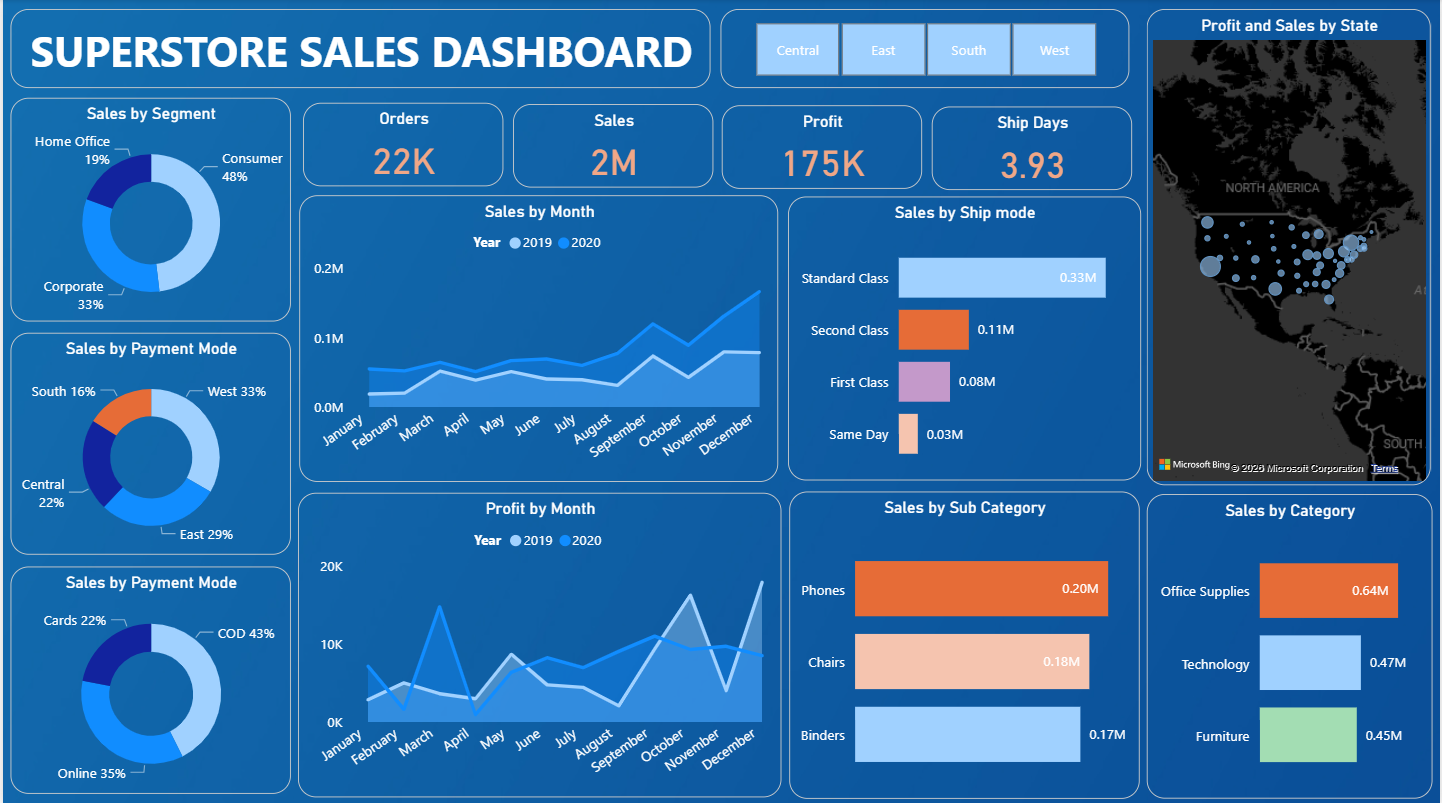

Layout of this report page (visuals, bound fields, positions):
{"tool":"powerbi","page":{"name":"Superstore Sales","canvas":[1280,720],"ordinal":0},"visuals":[{"type":"clusteredBarChart","title":"Sales by Category","fields":{"Category":["Sheet1.Category"],"Y":["Sum(Sheet1.Sales)"]},"box":[1018.7,441,254.1,270.9],"z":0},{"type":"clusteredBarChart","title":"Sales by Sub Category","fields":{"Category":["Sheet1.Sub-Category"],"Y":["Sum(Sheet1.Sales)"]},"box":[699.9,438.7,311.6,273.3],"z":1000},{"type":"clusteredBarChart","title":"Sales by Ship mode","fields":{"Y":["Sum(Sheet1.Sales)"],"Category":["Sheet1.Ship Mode"]},"box":[698.7,176.2,314,252.9],"z":2000},{"type":"areaChart","title":"Sales by Month","fields":{"Category":["Sheet1.Order Date.Variation.Date Hierarchy.Month","Sheet1.Order Date.Variation.Date Hierarchy.Day"],"Y":["Sum(Sheet1.Sales)"],"Series":["Sheet1.Order Date.Variation.Date Hierarchy.Year"]},"box":[263.7,175,426.7,255.3],"z":3000},{"type":"areaChart","title":" Profit by Month","fields":{"Category":["Sheet1.Order Date.Variation.Date Hierarchy.Month"],"Series":["Sheet1.Order Date.Variation.Date Hierarchy.Year"],"Y":["Sum(Sheet1.Profit)"]},"box":[262.5,439.9,430.3,270.9],"z":4000},{"type":"map","title":"Profit and Sales by State","fields":{"Category":["Sheet1.State"],"Size":["Sum(Sheet1.Sales)"]},"box":[1018.7,8.4,252.9,424.3],"z":5000},{"type":"donutChart","title":"Sales by Segment","fields":{"Category":["Sheet1.Segment"],"Y":["Sum(Sheet1.Sales)"]},"box":[7.2,87.5,249.3,199],"z":6000},{"type":"donutChart","title":" Sales by Payment Mode","fields":{"Y":["Sum(Sheet1.Sales)"],"Category":["Sheet1.Payment Mode"]},"box":[7.2,505.8,249.3,202.5],"z":7000},{"type":"slicer","fields":{"Values":["Sheet1.Region"]},"box":[638.8,8.4,364.3,70.7],"z":8000},{"type":"card","title":"Sales","fields":{"Values":["Sum(Sheet1.Sales)"]},"box":[454.2,93.5,178.6,74.3],"z":9000},{"type":"card","title":"Orders","fields":{"Values":["Sum(Sheet1.Quantity)"]},"box":[267.3,92.3,178.6,74.3],"z":10000},{"type":"card","title":"Profit","fields":{"Values":["Sum(Sheet1.Profit)"]},"box":[640,94.7,178.6,74.3],"z":11000},{"type":"card","title":"Ship Days","fields":{"Values":["Avg(Sheet1.Avg delivery)"]},"box":[827,95.9,178.6,74.3],"z":12000},{"type":"textbox","box":[7.2,8.4,623.2,70.7],"z":13000},{"type":"donutChart","title":" Sales by Payment Mode","fields":{"Y":["Sum(Sheet1.Sales)"],"Category":["Sheet1.Region"]},"box":[7.2,297.2,249.3,197.8],"z":14000}]}

Visuals, with their boxes in screenshot pixels (x1, y1, x2, y2), scaled from the page's 1280x720 canvas onto the 1442x803 screenshot:
"Sales by Category" clusteredBarChart: {"left": 1148, "top": 492, "right": 1434, "bottom": 794}
"Sales by Sub Category" clusteredBarChart: {"left": 788, "top": 489, "right": 1140, "bottom": 794}
"Sales by Ship mode" clusteredBarChart: {"left": 787, "top": 197, "right": 1141, "bottom": 479}
"Sales by Month" areaChart: {"left": 297, "top": 195, "right": 778, "bottom": 480}
" Profit by Month" areaChart: {"left": 296, "top": 491, "right": 780, "bottom": 793}
"Profit and Sales by State" map: {"left": 1148, "top": 9, "right": 1433, "bottom": 483}
"Sales by Segment" donutChart: {"left": 8, "top": 98, "right": 289, "bottom": 320}
" Sales by Payment Mode" donutChart: {"left": 8, "top": 564, "right": 289, "bottom": 790}
slicer - Sheet1.Region: {"left": 720, "top": 9, "right": 1130, "bottom": 88}
"Sales" card: {"left": 512, "top": 104, "right": 713, "bottom": 187}
"Orders" card: {"left": 301, "top": 103, "right": 502, "bottom": 186}
"Profit" card: {"left": 721, "top": 106, "right": 922, "bottom": 188}
"Ship Days" card: {"left": 932, "top": 107, "right": 1133, "bottom": 190}
textbox: {"left": 8, "top": 9, "right": 710, "bottom": 88}
" Sales by Payment Mode" donutChart: {"left": 8, "top": 331, "right": 289, "bottom": 552}
